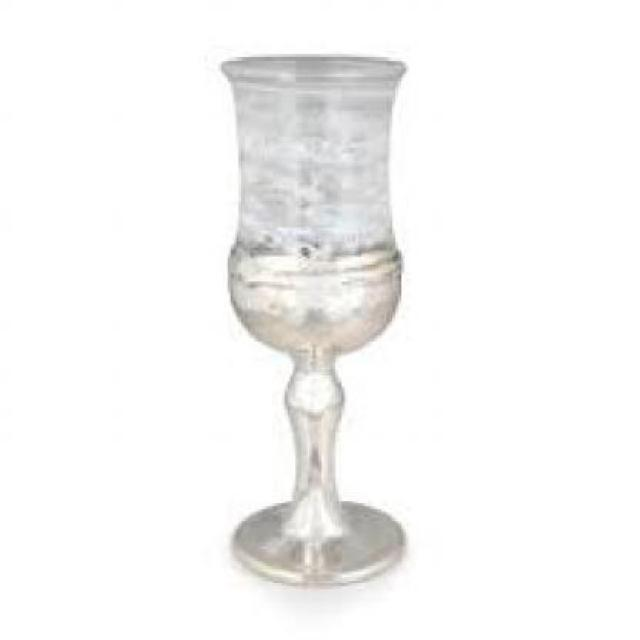kaca: (217, 54, 405, 586)
